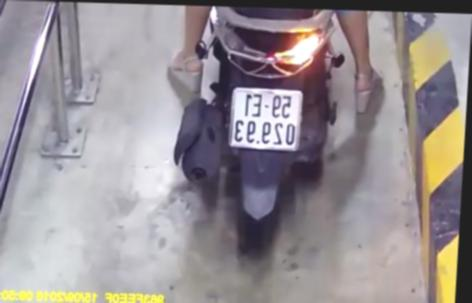License_Plate: (222, 85, 313, 157)
